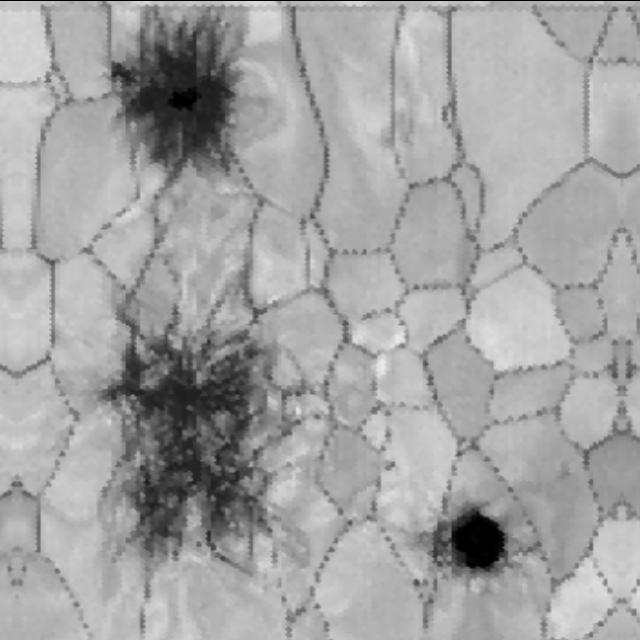good_void: (87, 286, 322, 588), (422, 492, 526, 591), (407, 570, 430, 593), (379, 455, 402, 478), (282, 453, 299, 473), (312, 408, 324, 423)
